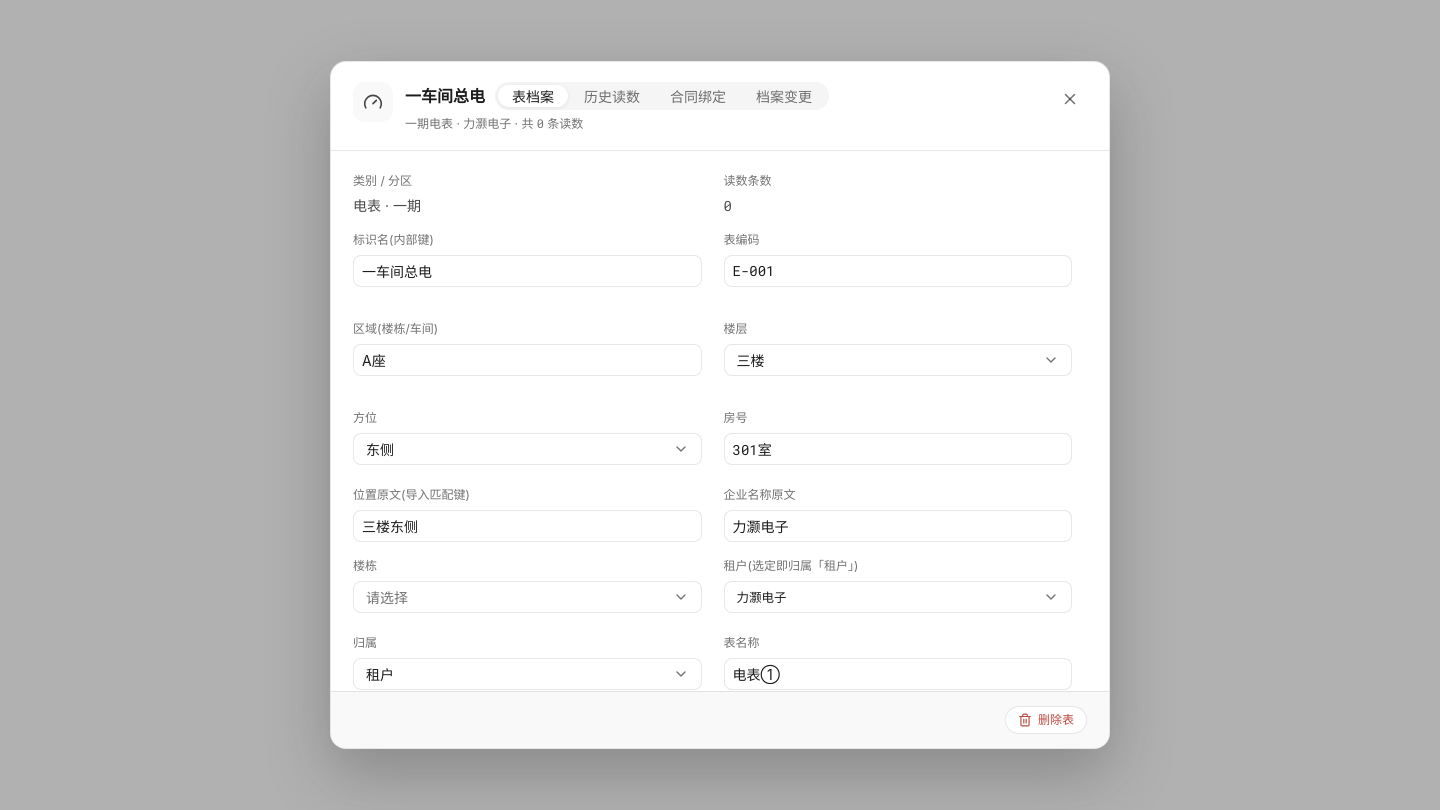
Test: 删除表确认框 › 只挂在草稿单里、没有出账运行权限:不给勾,写明要谁来删,确认灰掉
This screenshot has width=1440, height=810.
Click the button "删除表" at (1046, 720), box x1=1005 y1=706 x2=1087 y2=734
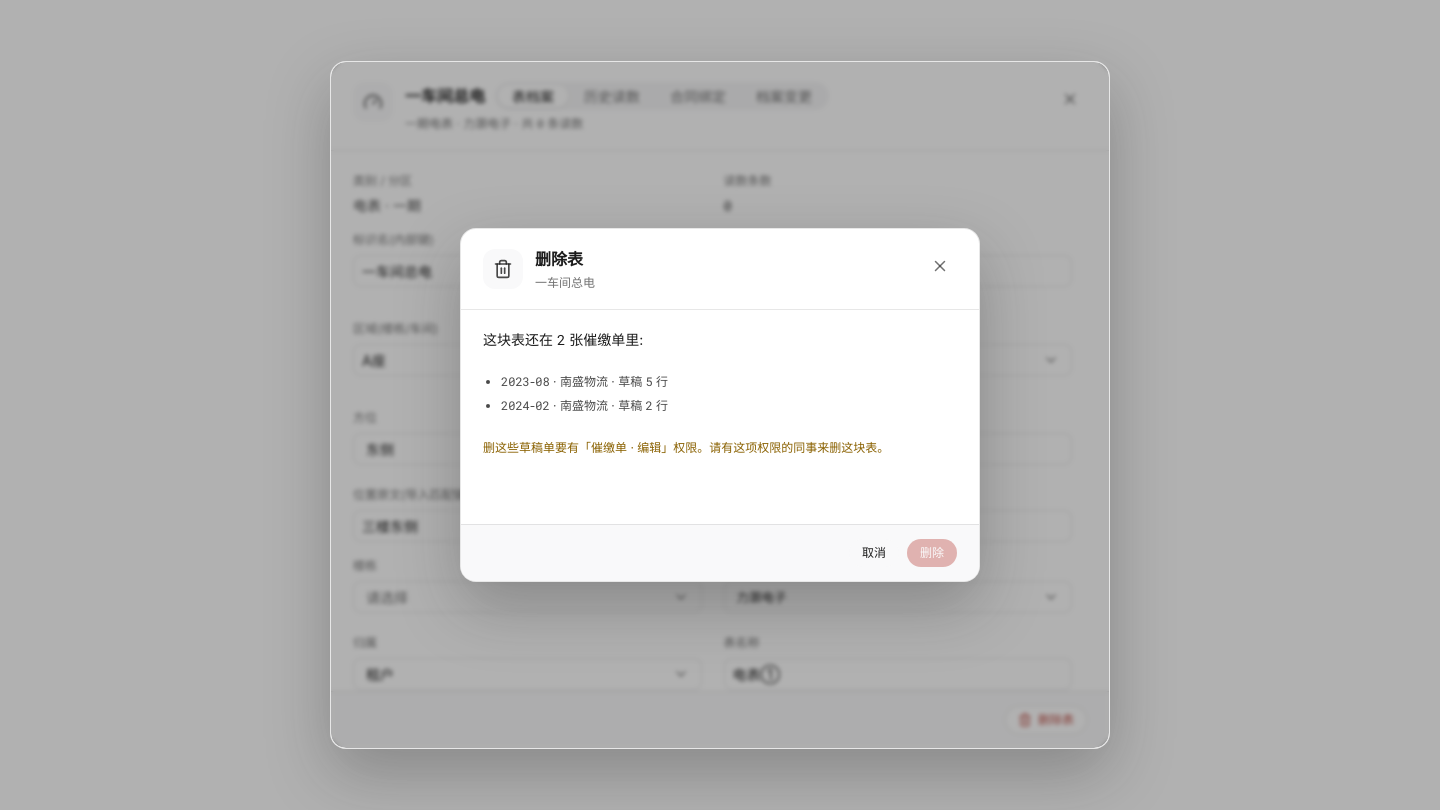
Expected: the button "删除" is disabled, x1=907 y1=539 x2=957 y2=567
